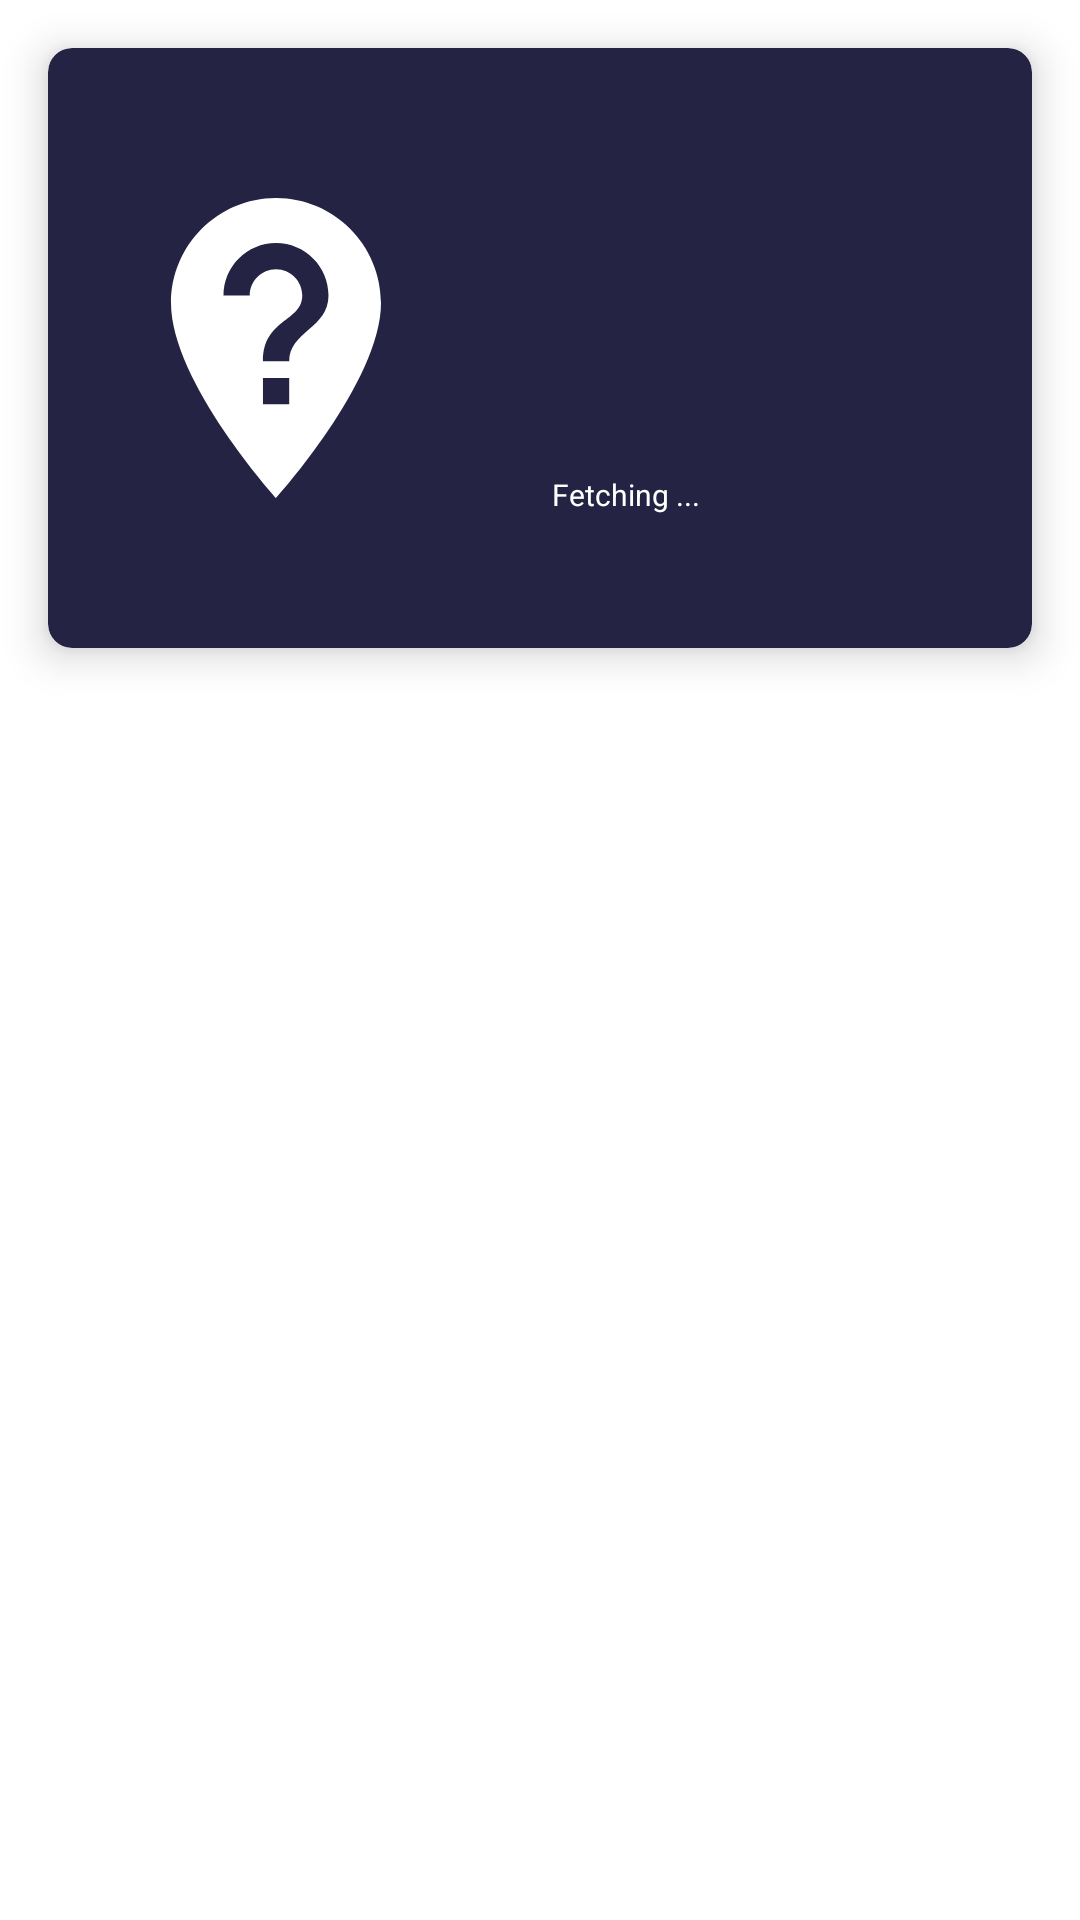

Locate icon controls on the screen. Image size 1080px×1920px, boxes as (x1, y1, x2, y2).
location place holder: (171, 198, 381, 498)
